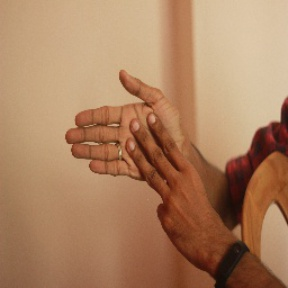M: (67, 67, 197, 213)
